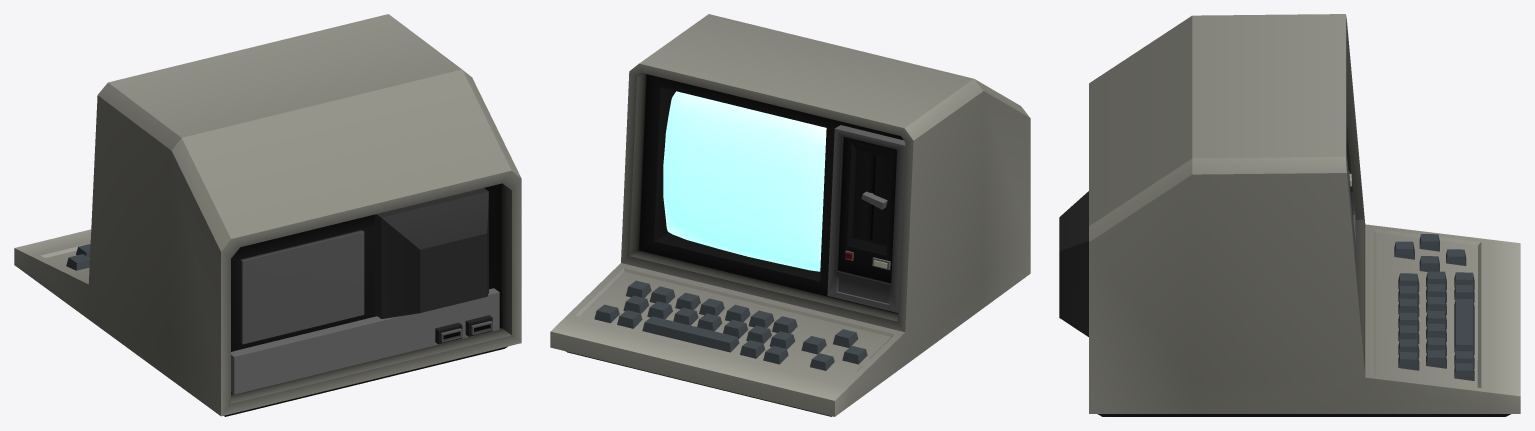
The model's file is crt2.glb.
3 renders of one model, left to right at view 1: azimuth 30°, elevation 25°; view 2: azimuth 150°, elevation 25°; view 3: azimuth 270°, elevation 25°, orthographic. The views are drawn at different scales.
Parts seen in each view (by area): view 1: Cube.004; view 2: Cube.004; view 3: Cube.004.
Boxes of the visible parts, bbox=[...] form: Cube.004: bbox=[14, 14, 521, 416]; Cube.004: bbox=[550, 14, 1030, 416]; Cube.004: bbox=[1059, 14, 1520, 416].
Size of the model in its own units: 3.27 by 2.59 by 4.17.
